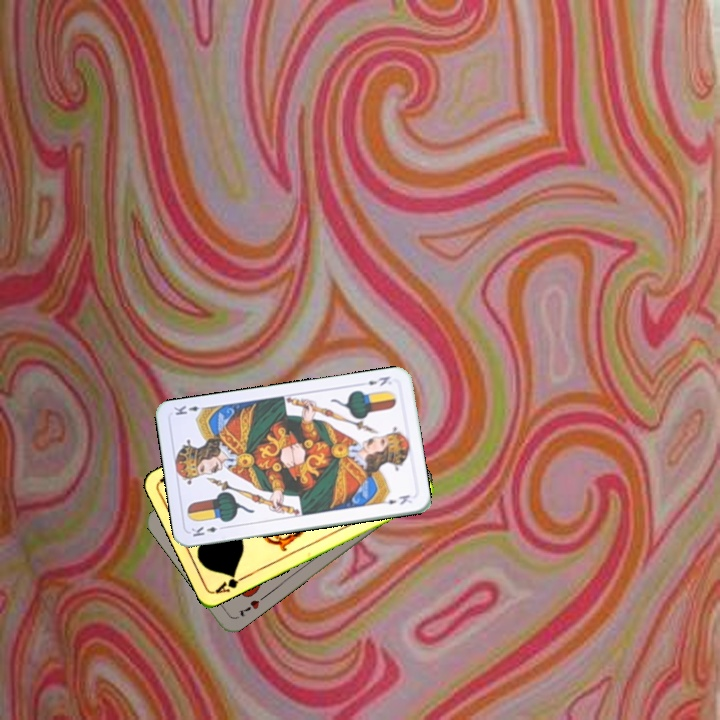EK: (187, 522, 228, 539), (364, 372, 392, 389)
GA: (211, 569, 249, 596)
H7: (235, 596, 262, 619)
